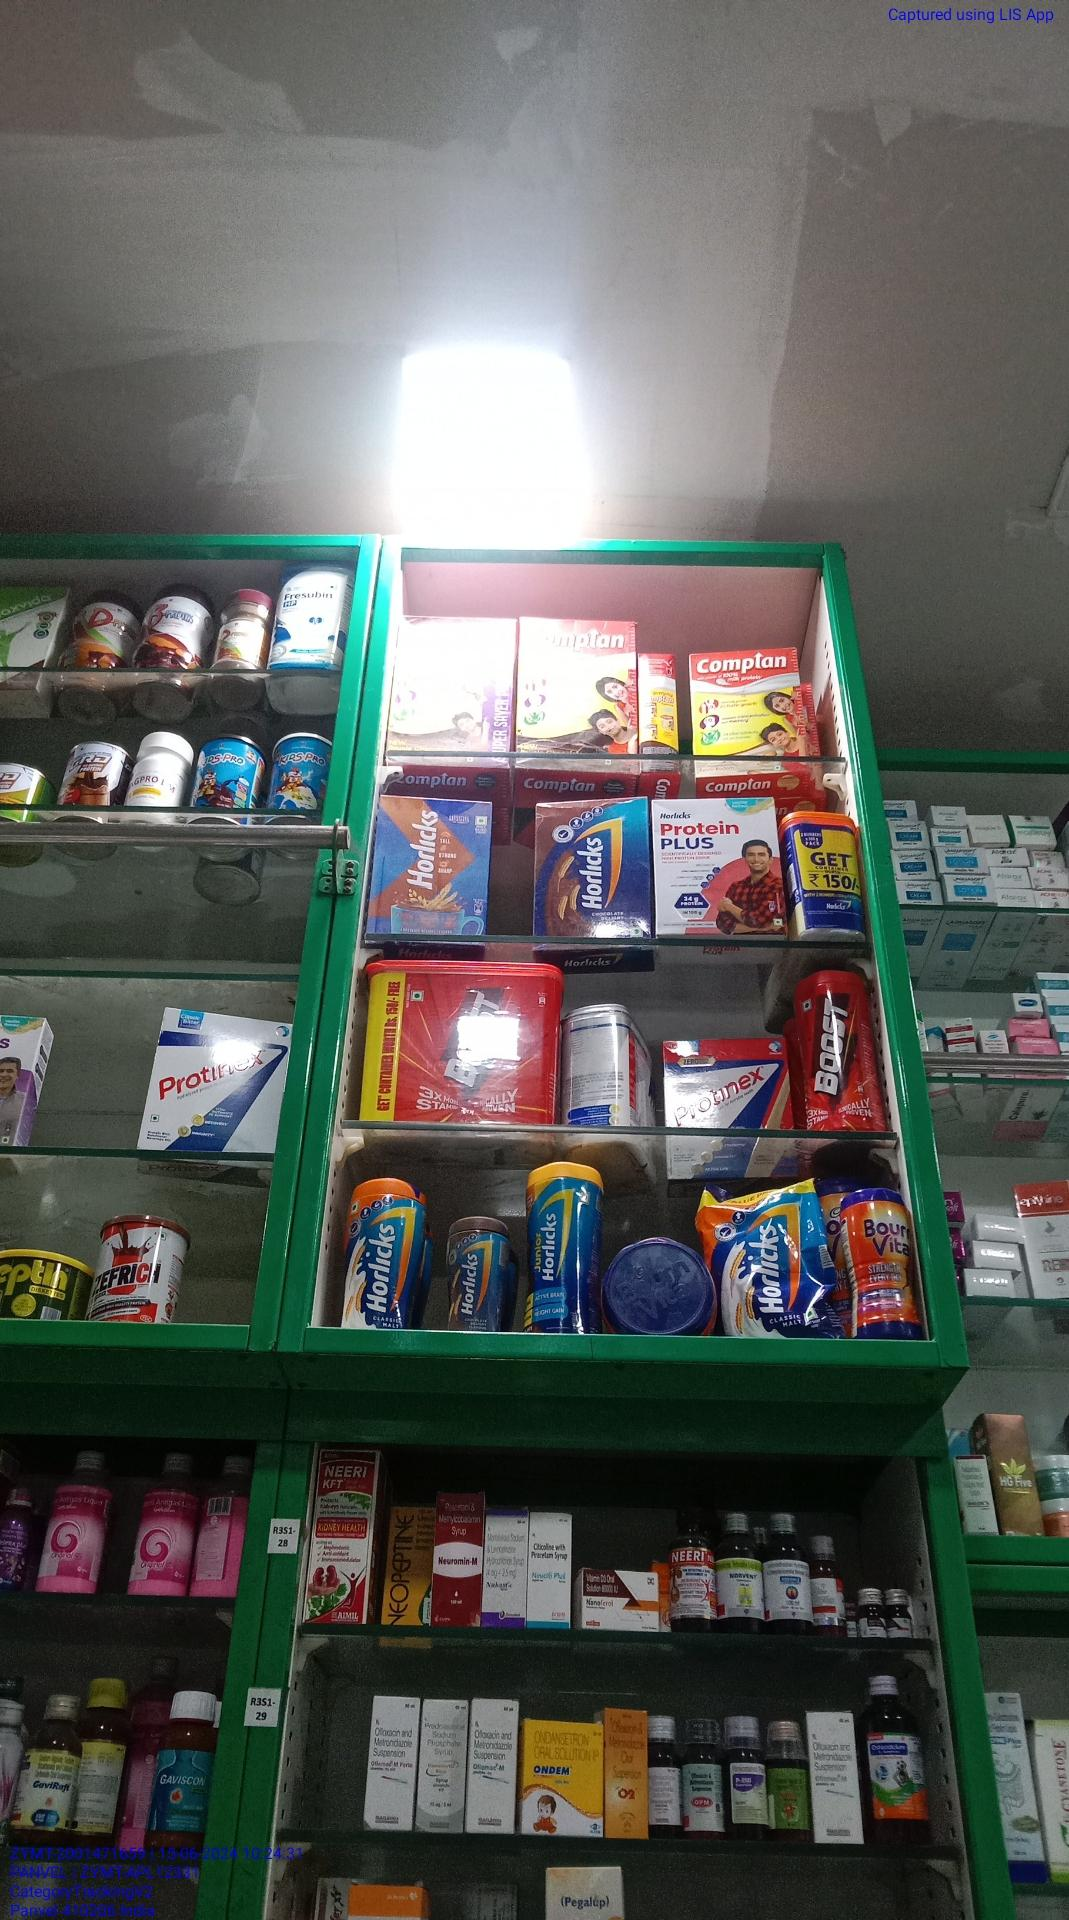BOURN_VITA_500_G_JAR: (847, 1186, 920, 1336)
COMPLAN_KESAR_BADAM_500_GMS_PACK: (694, 653, 807, 783)
HORLICKS_JUNIOR_VANILLA_500_GM_JAR: (524, 1159, 600, 1333)
HORLICK_CHOCOLATE_500_G_PACK: (371, 796, 492, 941)
HORLICK_CLASSIC_MALT_500_G_JAR: (348, 1175, 423, 1329)
HORLICK_CLASSIC_MALT_750_G_POUCH: (715, 1182, 836, 1334)
